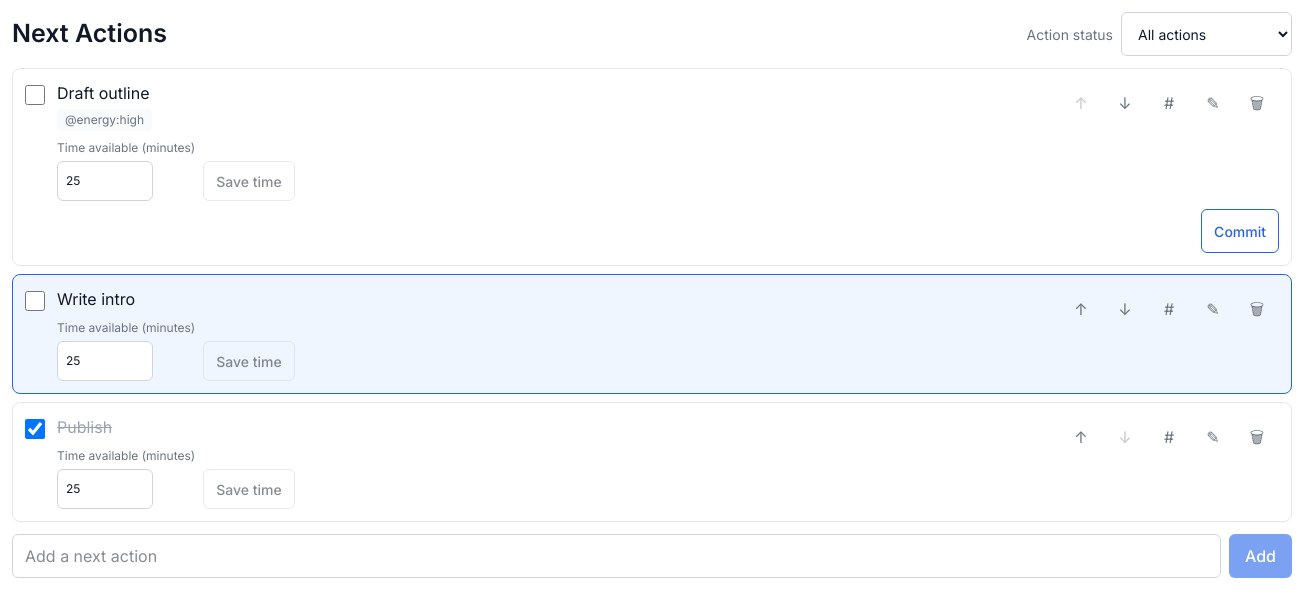
ActionList › filters actions by active and completed status while keeping All available
This screenshot has width=1304, height=595.
Check: the text "Publish" is shown, box [57,417,112,437]
Select "Active actions" in the dropdown named "Filter actions by status". click: (1206, 34)
box: [1121,12,1292,56]
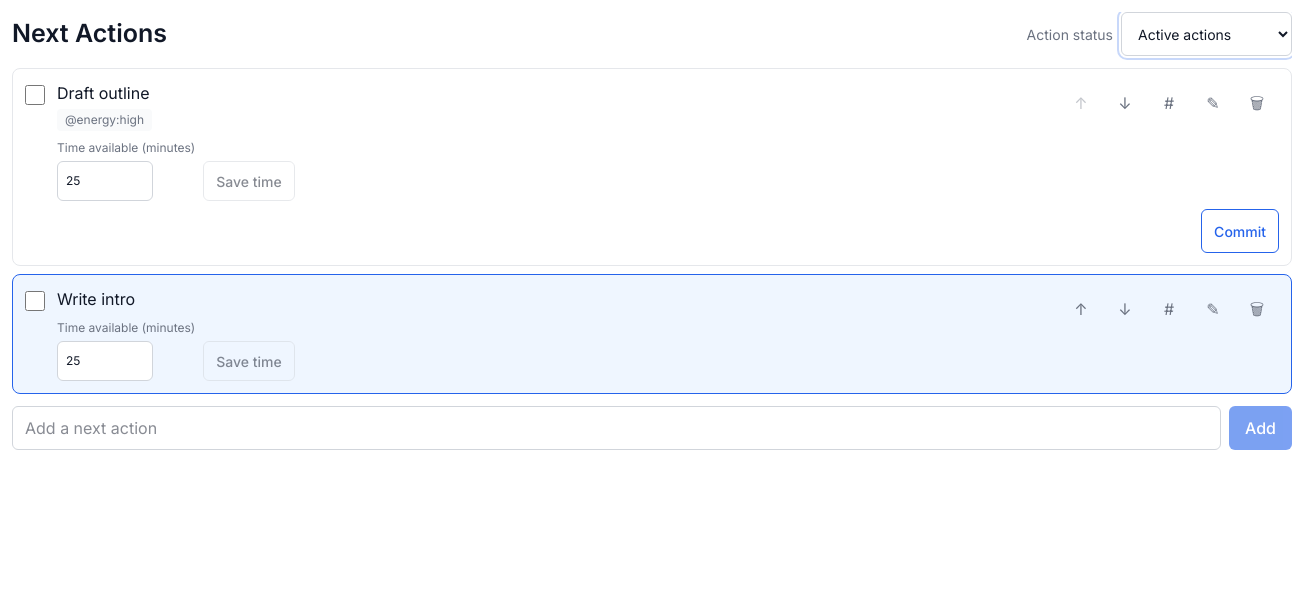
Check: the text "Draft outline" is shown, box [57,83,150,103]
Check: the text "Publish" is gone
Select "Completed actions" in the dropdown named "Filter actions by status". click: (1206, 34)
box: [1121,12,1292,56]
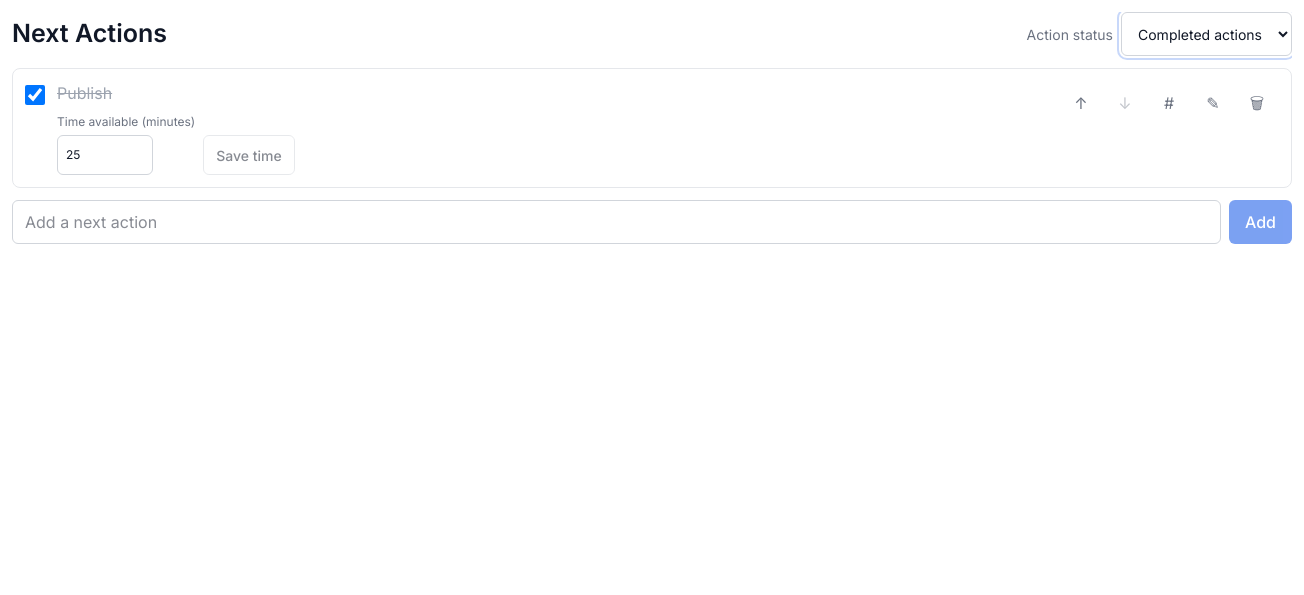
Check: the text "Publish" is shown, box [57,83,112,103]
Check: the text "Draft outline" is gone
Check: the text "Write intro" is gone
Select "All actions" in the dropdown named "Filter actions by status". click: (1206, 34)
box: [1121,12,1292,56]
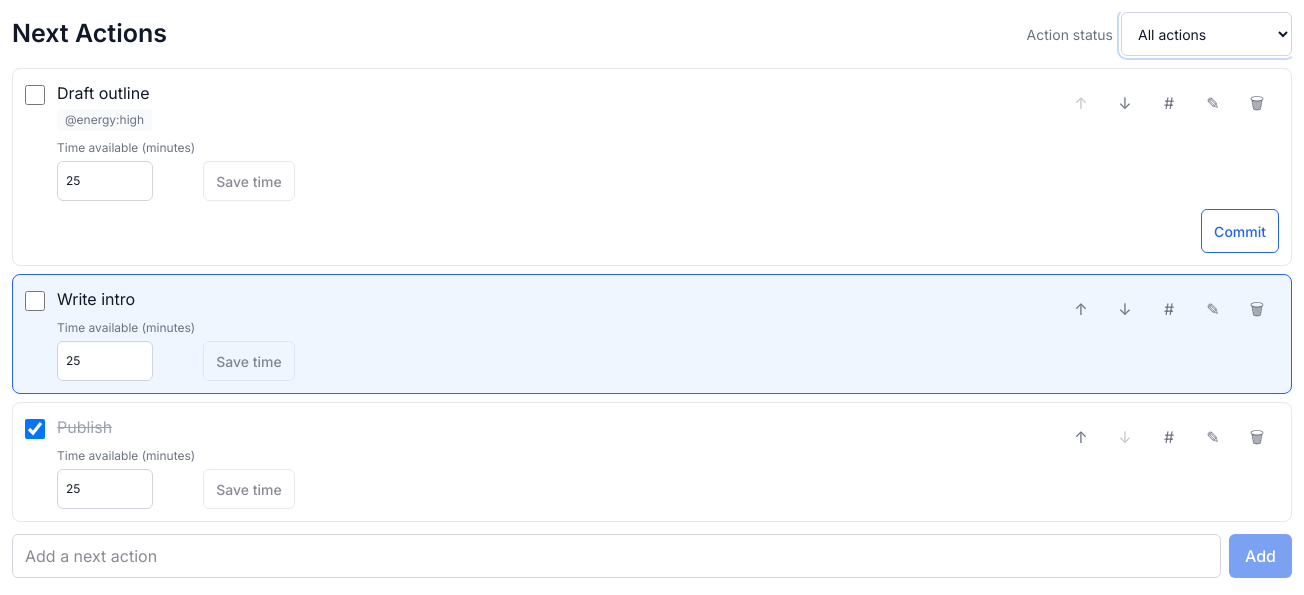
Check: the text "Publish" is shown, box [57,417,112,437]
Check: the text "Draft outline" is shown, box [57,83,150,103]
Check: the text "Write intro" is shown, box [57,289,135,309]
